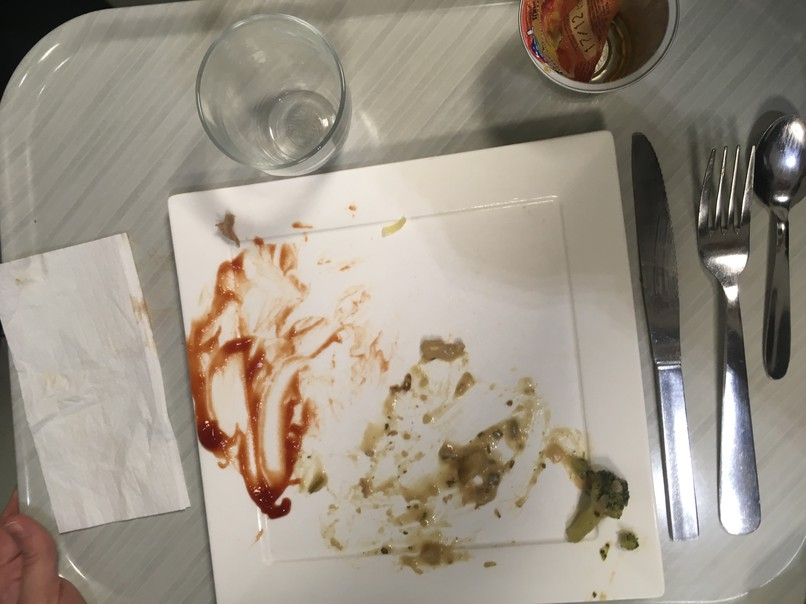cup: (170, 4, 357, 177)
cutlery: (622, 124, 715, 547), (698, 139, 770, 548), (750, 105, 806, 380)
orga: (564, 458, 630, 561)
trash: (1, 223, 150, 535), (503, 1, 676, 111)
